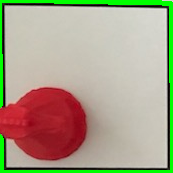Red Knight: (1, 84, 90, 164)
